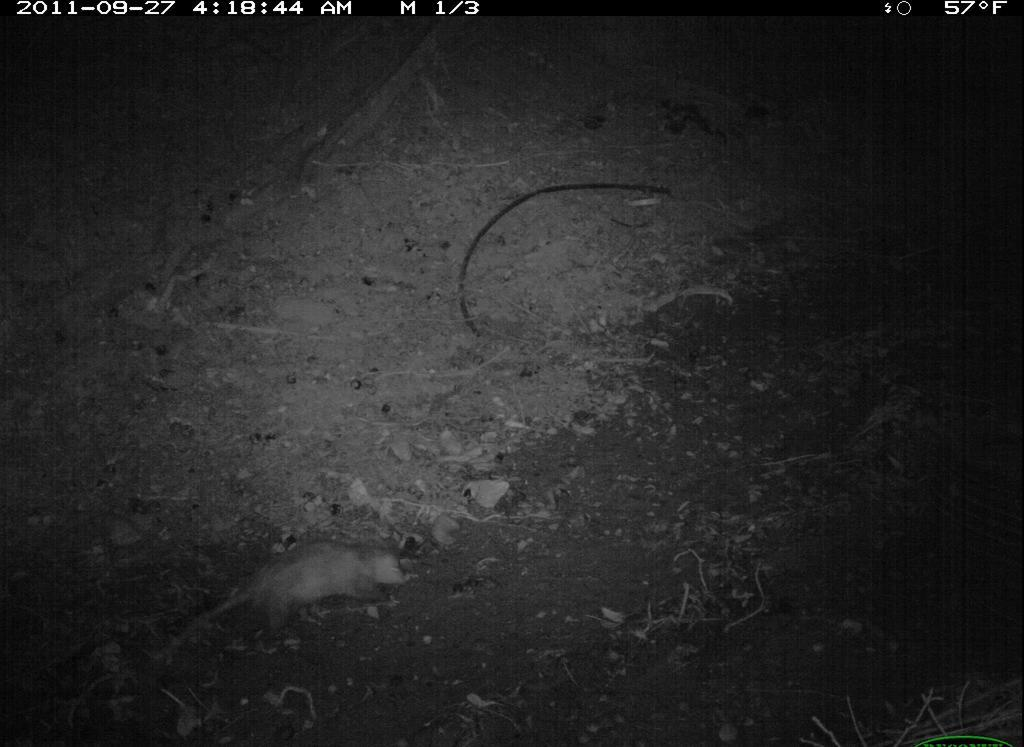opossum: (145, 538, 420, 665)
